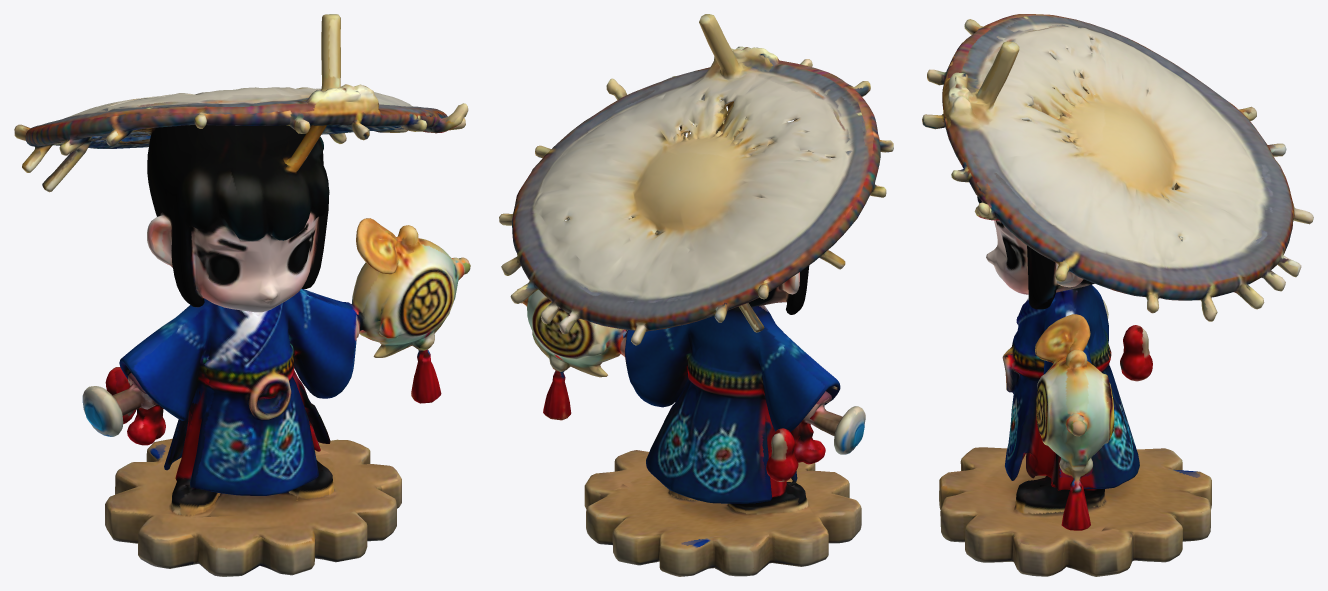
Rendered from goodcase0304_41.glb.
3 renders of one model, left to right at view 1: azimuth 30°, elevation 25°; view 2: azimuth 150°, elevation 25°; view 3: azimuth 270°, elevation 25°, orthographic. The views are drawn at different scales.
Parts seen in each view (by area): view 1: object.001; view 2: object.001; view 3: object.001.
Part boxes in pixels (bbox=[...]): object.001: bbox=[14, 14, 470, 576]; object.001: bbox=[499, 14, 893, 576]; object.001: bbox=[922, 14, 1313, 576].
Bounding box in the file's own units: 0.7866 × 0.9609 × 0.6846.
Materials: 1 (1 with a texture image).
